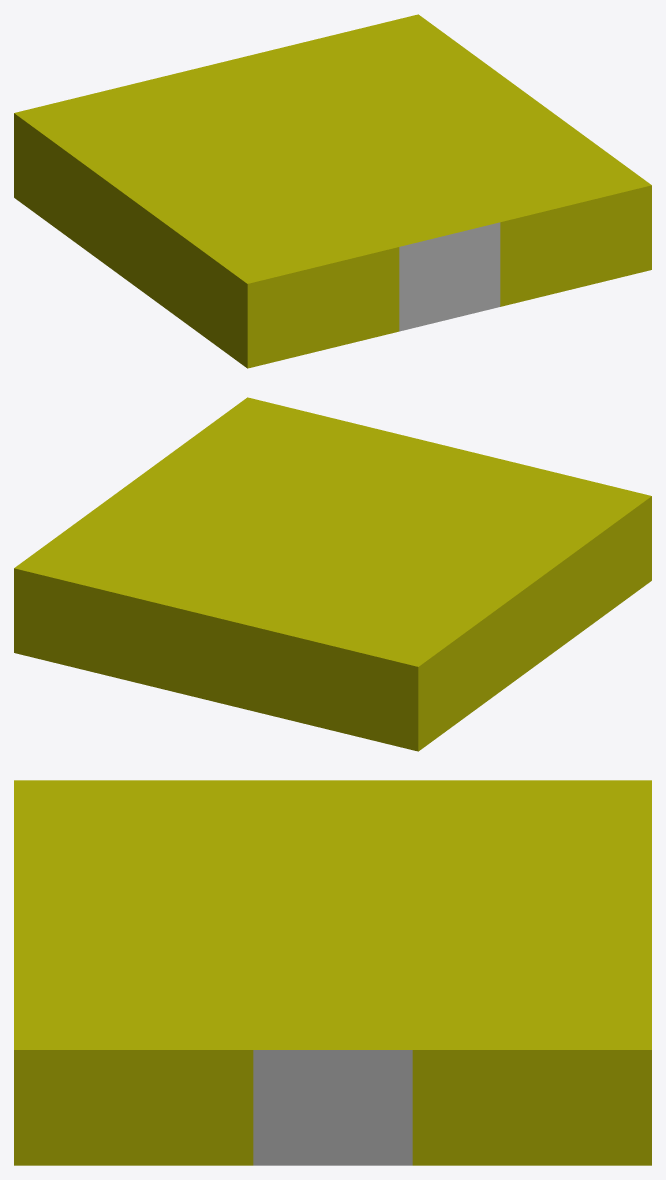
The model's file is boxae.dae.
3 views of the same model, one above another, from view 1: azimuth 30°, elevation 25°; view 2: azimuth 150°, elevation 25°; view 3: azimuth 270°, elevation 25° (orthographic). The views are drawn at different scales.
Parts seen in each view (by area): view 1: boxae.shape; view 2: boxae.shape; view 3: boxae.shape.
Boxes of the visible parts, left/top/right/bottom form: boxae.shape: left=14, top=14, right=651, bottom=368; boxae.shape: left=14, top=397, right=651, bottom=751; boxae.shape: left=14, top=780, right=651, bottom=1165.
Bounding box in the file's own units: 0.5 × 0.5 × 0.1.
